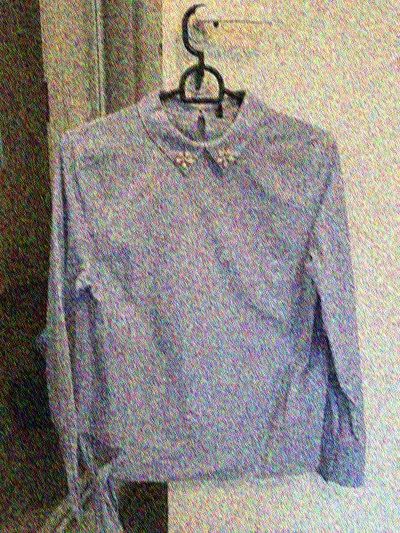Blouse: (35, 66, 373, 519)
